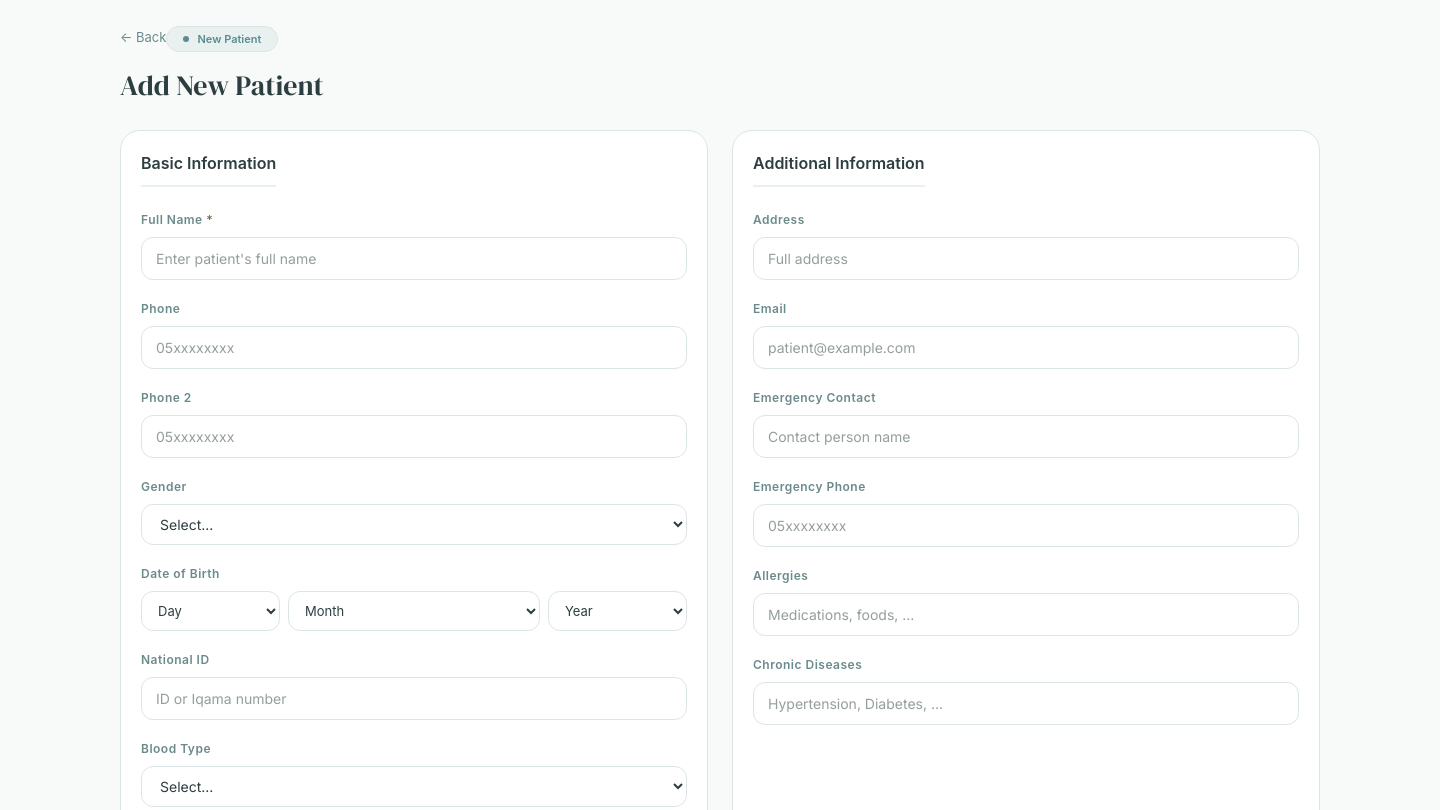
AddPatient › shows the server error message when creating the patient fails
The image size is (1440, 810).
Type "Sara Ahmad" into the field with placeholder "Enter patient's full name".
click(414, 259); type("Sara Ahmad")  # box [141,237,687,280]
(page scrolled)
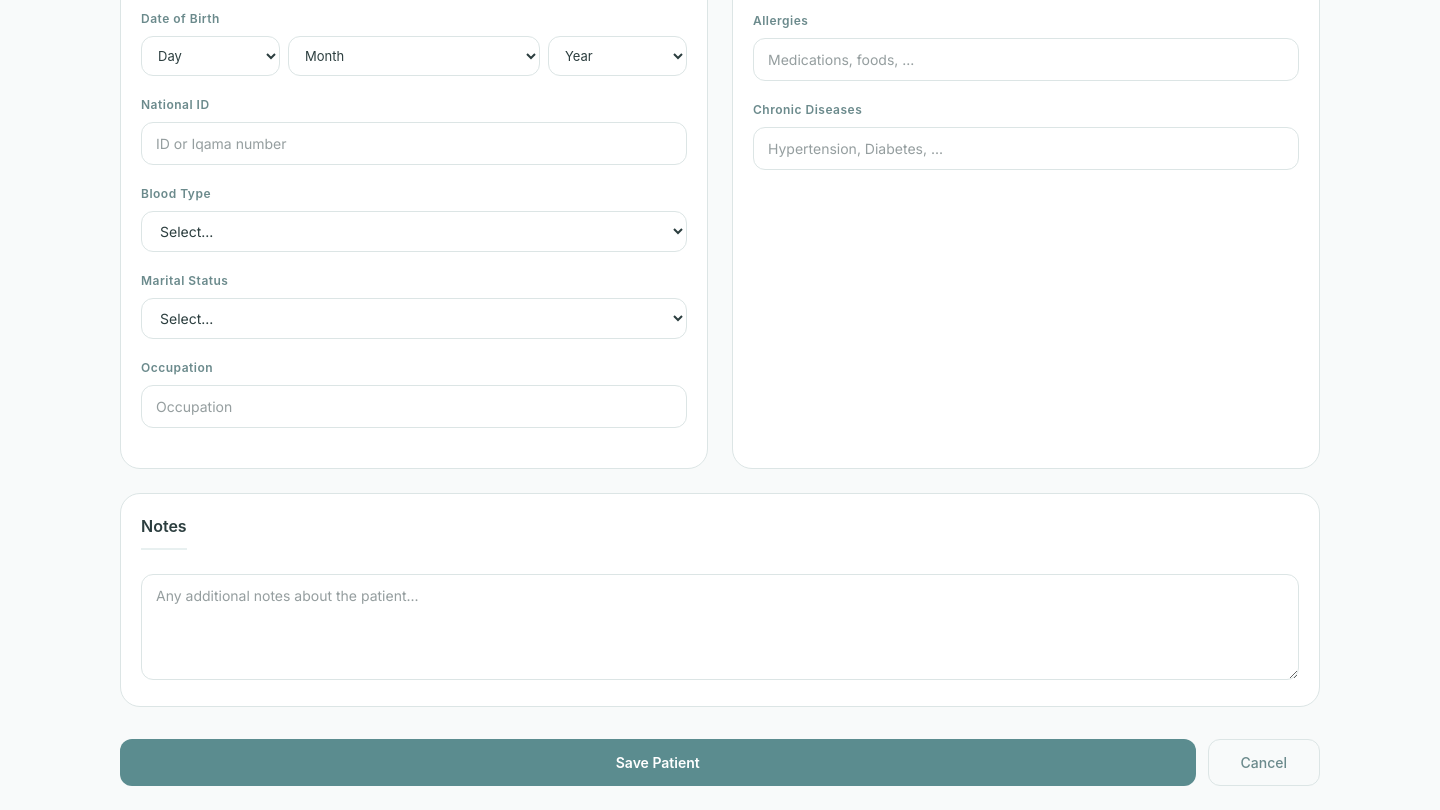
Click the button "Save Patient".
click(658, 763)  # box [120,739,1196,786]
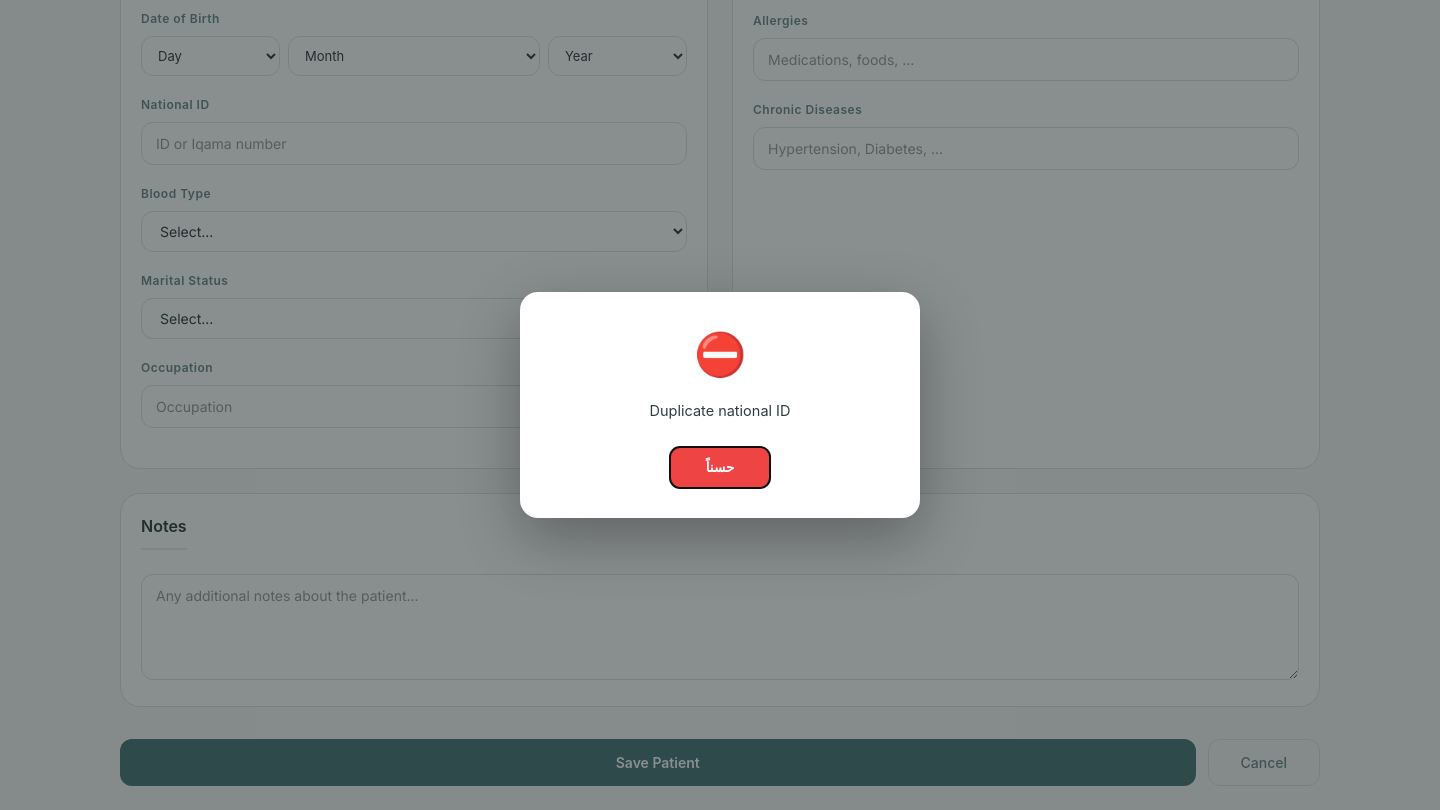
Expected: the text "Duplicate national ID" is shown, [650,402,790,419]
